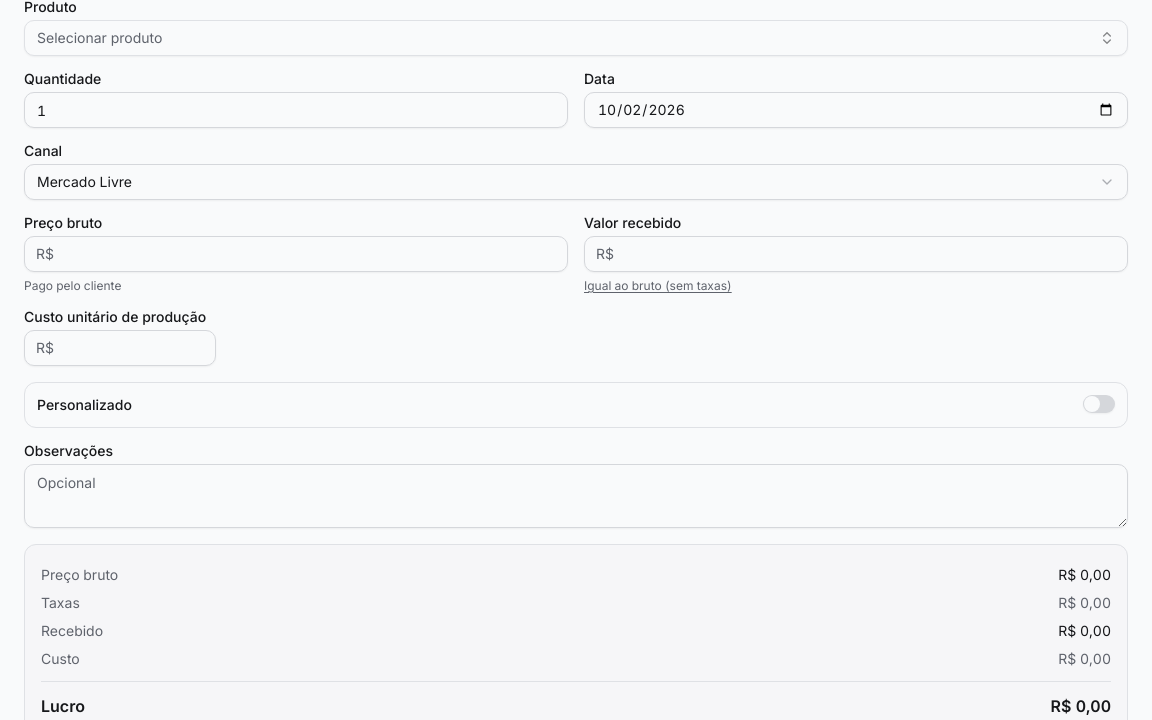
Scenario: SaleForm › warns when a stocked variant does not have enough units
Click the dropdown labelled "produto". click: (100, 38)
box: x1=24 y1=20 x2=1128 y2=56
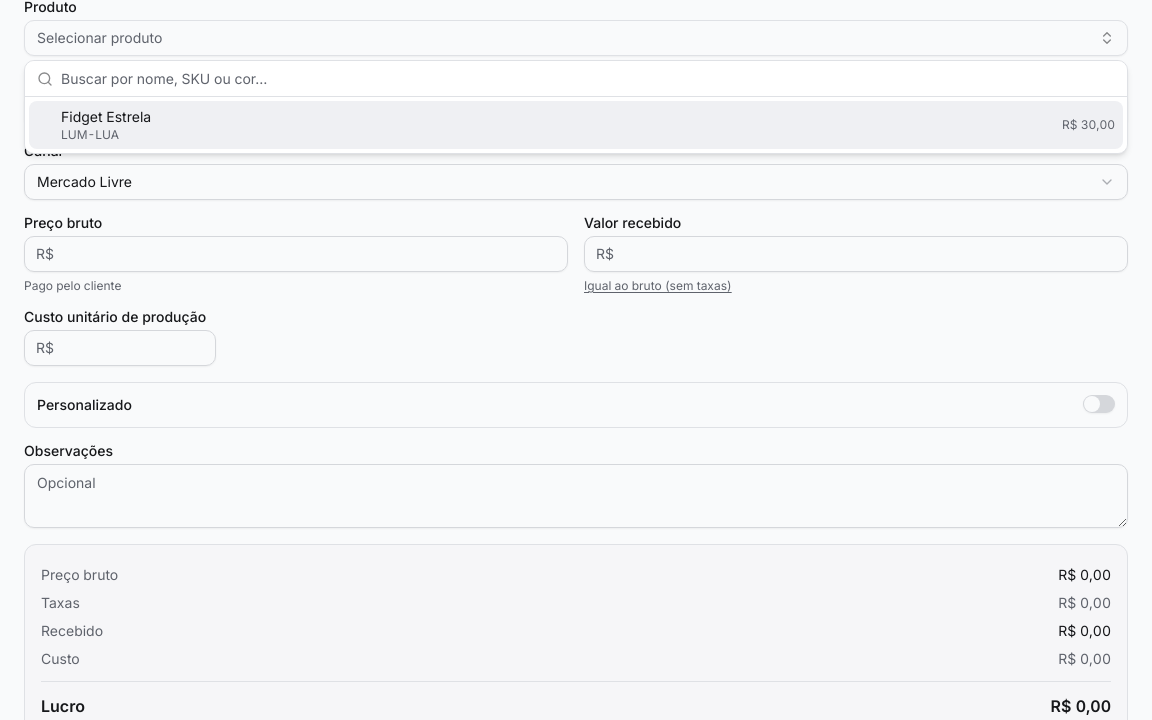
Click the text "Fidget Estrela". click: (106, 116)
box: x1=61 y1=108 x2=151 y2=125
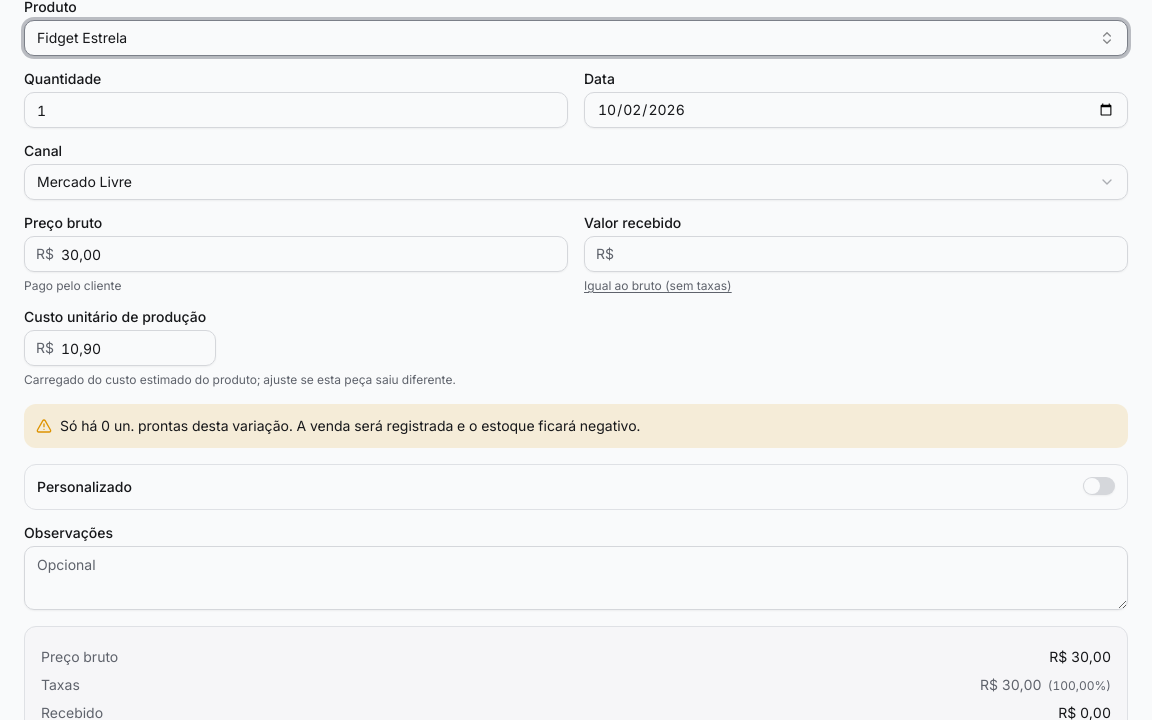
Now the text "estoque ficará negativo" is shown, box x1=110 y1=417 x2=640 y2=434
